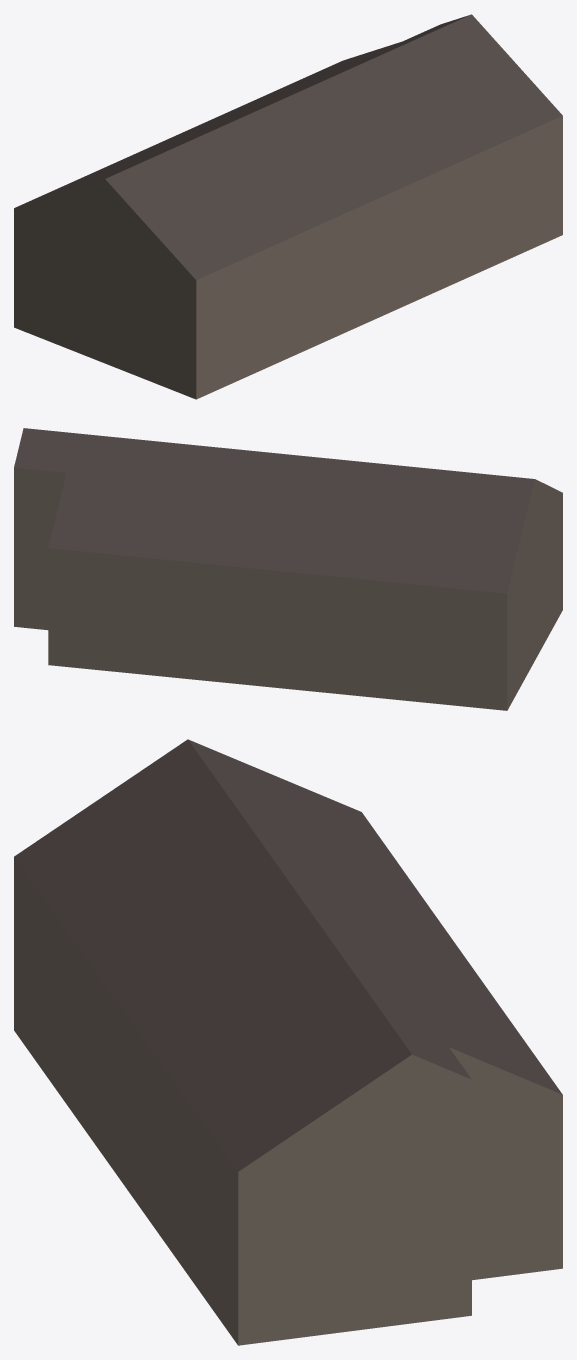
The picture shows the model from 3 angles, top to bottom: view 1: azimuth 30°, elevation 25°; view 2: azimuth 150°, elevation 25°; view 3: azimuth 270°, elevation 25°; orthographic projection. The views are drawn at different scales.
Visible parts, largest first — view 1: HP-w1376988792; view 2: HP-w1376988792; view 3: HP-w1376988792.
Part boxes in pixels (x1=…): HP-w1376988792: x1=14, y1=14, x2=562, y2=399; HP-w1376988792: x1=14, y1=428, x2=562, y2=710; HP-w1376988792: x1=14, y1=739, x2=562, y2=1345.
Bounding box in the file's own units: 26.66 × 9.29 × 17.19.
